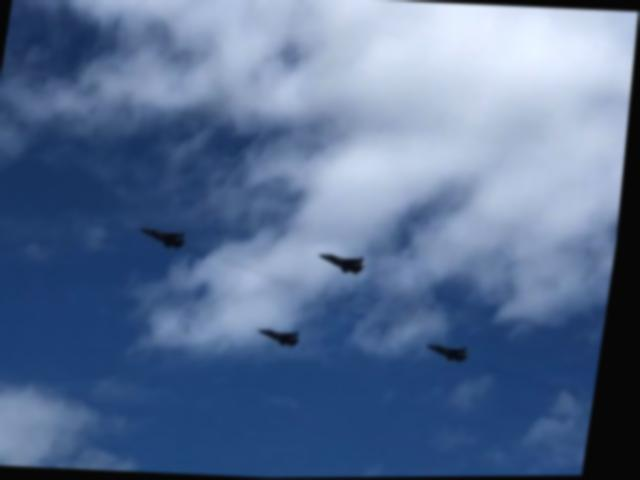flying wing: (324, 237, 378, 286), (261, 315, 313, 358), (143, 217, 197, 258), (423, 333, 476, 372)
